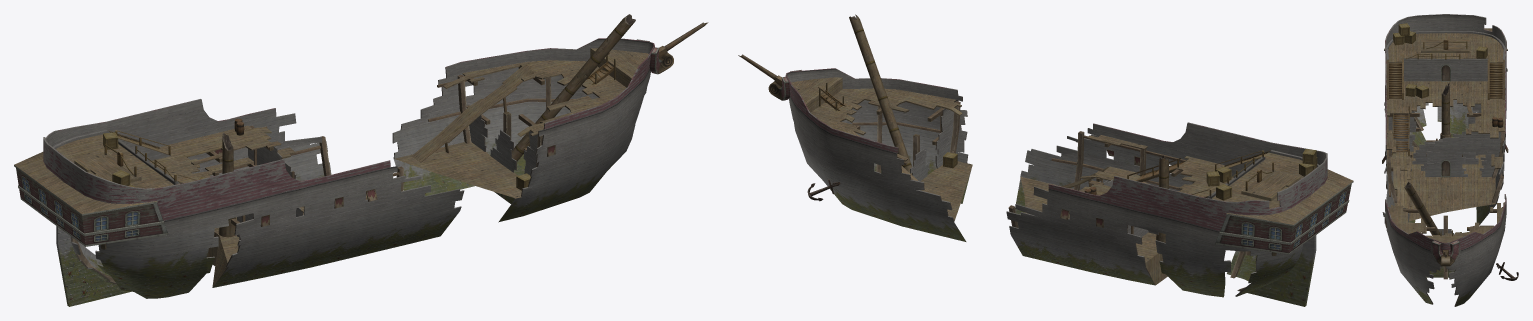
Rendered from boatwreck.fbx.
3 views of the same model, side by side, from view 1: azimuth 30°, elevation 25°; view 2: azimuth 150°, elevation 25°; view 3: azimuth 270°, elevation 25° (orthographic). The views are drawn at different scales.
Visible parts, largest first — view 1: GEOM0_LOD0; view 2: GEOM0_LOD0; view 3: GEOM0_LOD0.
Part boxes in pixels (bbox=[...]): GEOM0_LOD0: bbox=[14, 14, 708, 306]; GEOM0_LOD0: bbox=[738, 14, 1353, 306]; GEOM0_LOD0: bbox=[1382, 14, 1518, 306].
Size of what is drawn, in the model's own units: 6795 by 1774 by 1684.
